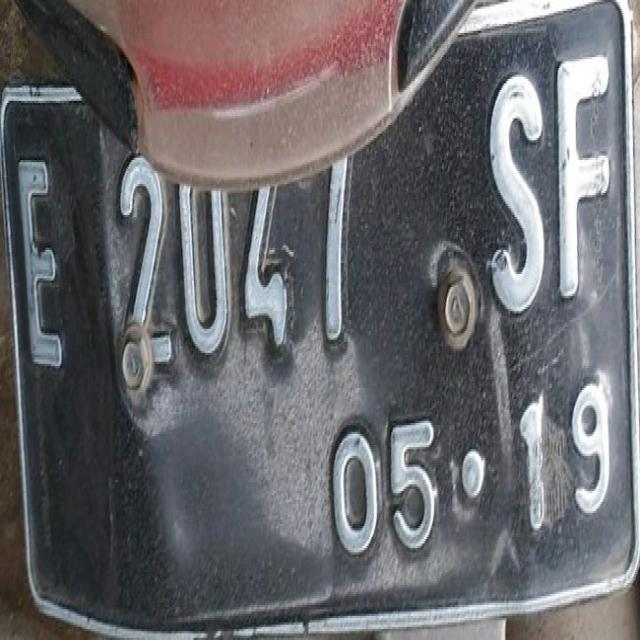plate: (3, 6, 639, 614)
